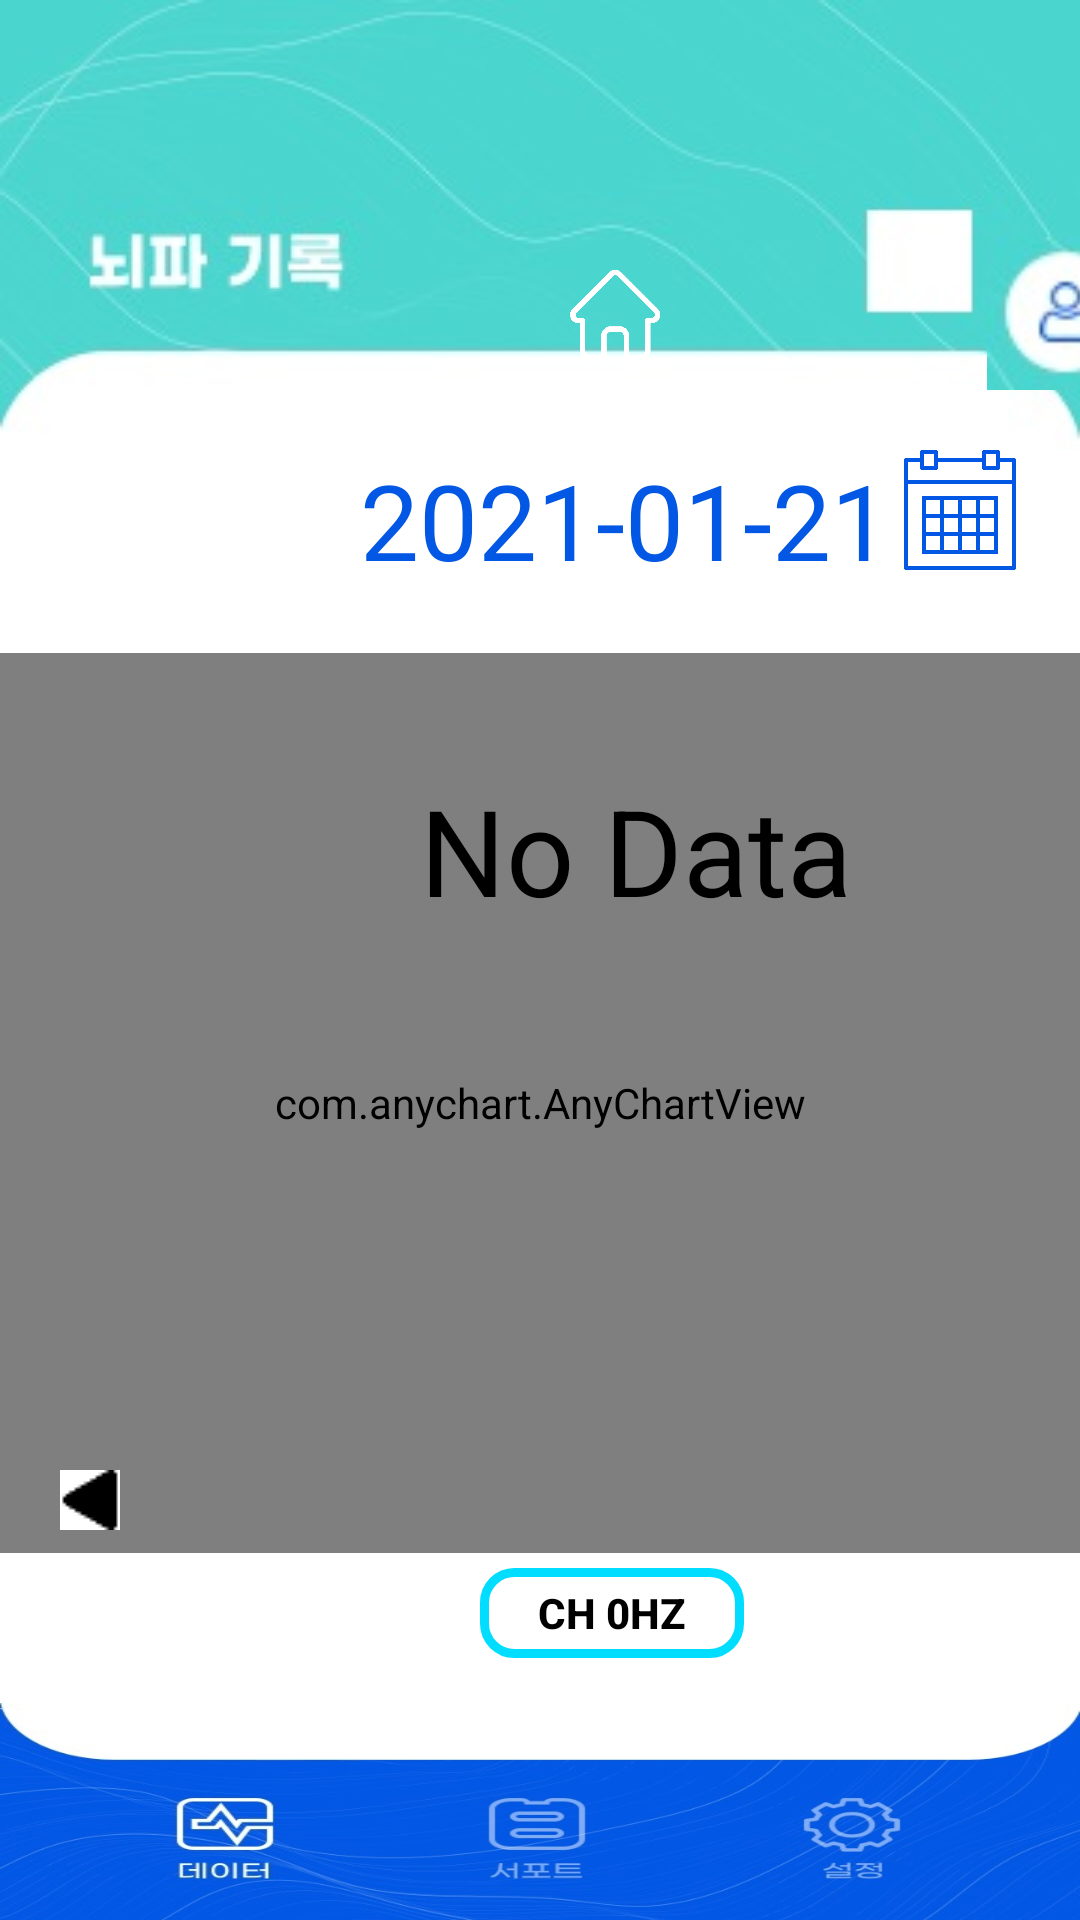

Named icons in this screenshot (1080 x 1920) and their centers, [x,y]:
calendarbtn: [960,510]
triangle left: [90,1500]
